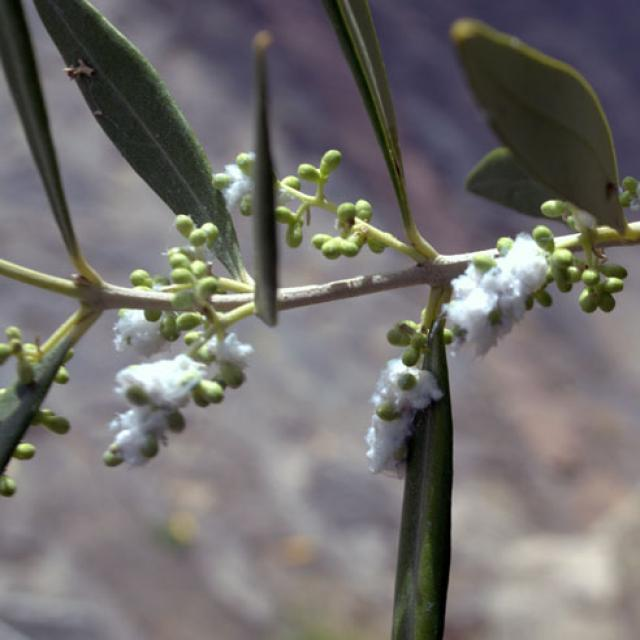Psyllid: (104, 308, 252, 466), (441, 233, 548, 355), (364, 353, 442, 477), (212, 152, 254, 215), (116, 311, 165, 356)
